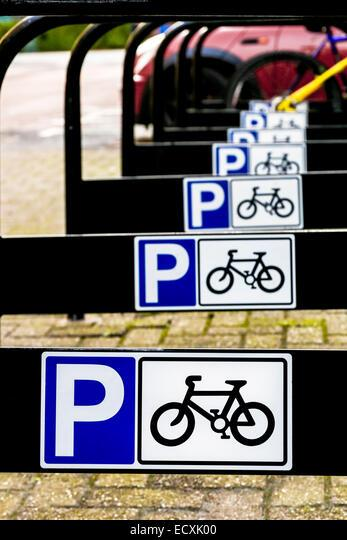Parking Lot Cycle: (35, 346, 295, 471), (130, 229, 307, 314), (182, 182, 310, 229), (218, 146, 309, 174), (230, 131, 307, 145), (247, 108, 299, 127)
